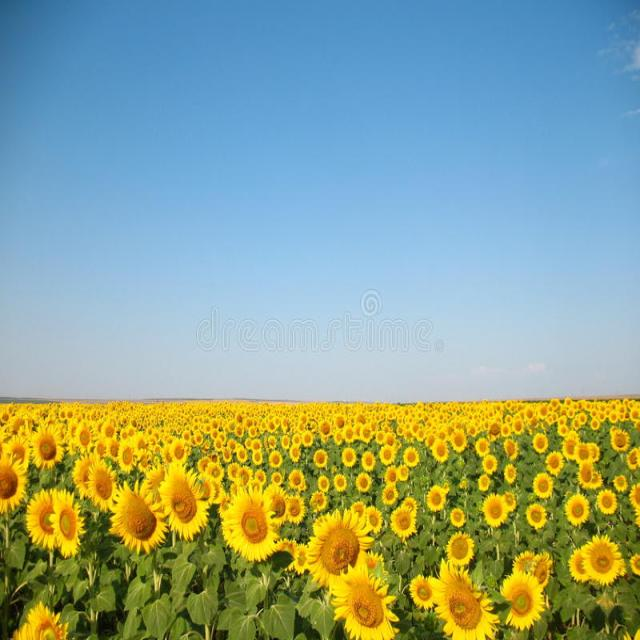sunflower: (426, 555, 505, 640), (301, 499, 377, 582), (328, 563, 405, 636), (218, 479, 283, 560), (155, 457, 209, 544), (110, 482, 165, 556), (496, 572, 553, 628), (581, 532, 628, 589), (49, 488, 86, 558), (85, 458, 124, 514), (478, 490, 511, 537), (31, 432, 64, 467), (384, 503, 416, 538), (444, 530, 476, 564), (563, 492, 592, 526), (75, 420, 98, 452), (607, 426, 634, 453), (426, 483, 448, 514), (531, 471, 554, 498), (595, 490, 618, 515), (356, 450, 381, 472), (428, 439, 449, 463), (544, 451, 564, 476), (341, 445, 359, 471), (482, 453, 500, 478), (475, 438, 494, 458), (403, 445, 420, 467), (288, 468, 306, 488), (313, 450, 329, 468)
